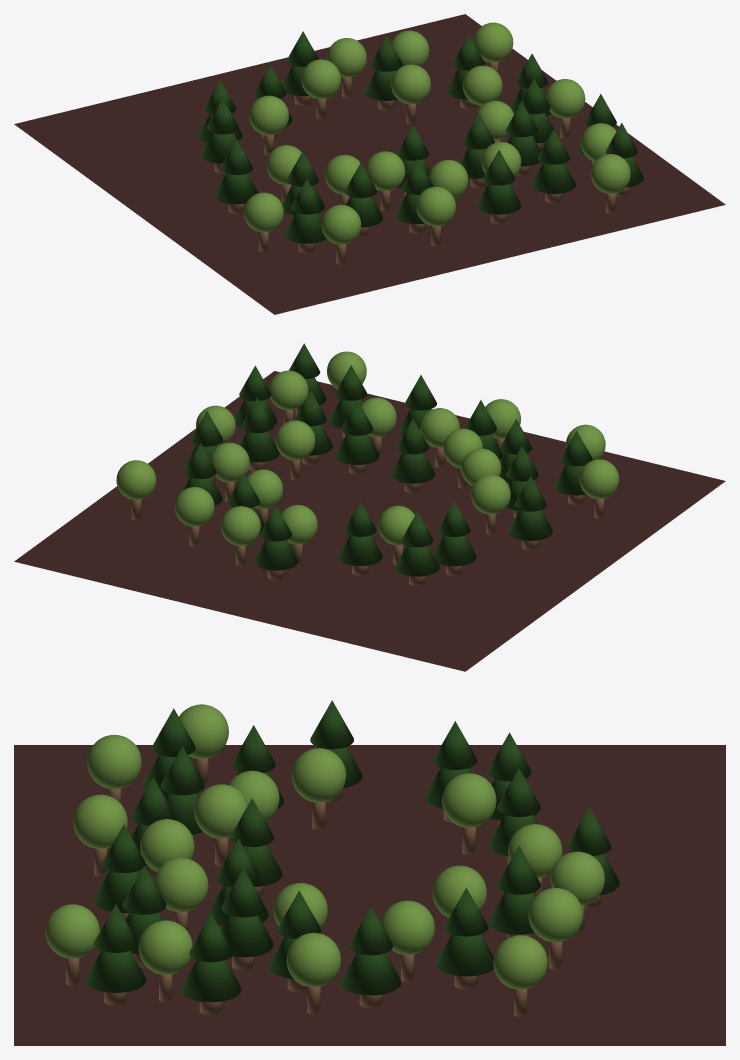
Rendered from outside.glb.
The picture shows the model from 3 angles, top to bottom: view 1: azimuth 30°, elevation 25°; view 2: azimuth 150°, elevation 25°; view 3: azimuth 270°, elevation 25°; orthographic projection. The views are drawn at different scales.
Parts seen in each view (by area): view 1: Plane, Cone.008, Cone.005, Cone.009, Cone.010, Cone.015, Cone.011, Sphere.009, Sphere.004, Cone.003, Sphere.003, Sphere.007 (+28 smaller); view 2: Plane, Cone.010, Cone.001, Cone.014, Cone.013, Cone.006, Cone.012, Cone.011, Cone.018, Cone.009, Sphere.005, Sphere.008 (+28 smaller); view 3: Plane, Cone.017, Cone.019, Cone.020, Cone.016, Cone.007, Cone.015, Sphere.002, Sphere.001, Sphere.015, Sphere.016, Sphere.013 (+28 smaller).
Part boxes in pixels (x1,y1,x2,y2): Plane: (14,14,725,314); Cone.008: (531,129,575,203); Cone.005: (477,150,521,224); Cone.009: (285,179,326,253); Cone.010: (215,139,258,213); Cone.015: (364,36,402,110); Cone.011: (201,99,244,173); Sphere.009: (321,204,361,264); Sphere.004: (391,64,430,124); Cone.003: (345,163,382,237); Sphere.003: (301,59,340,119); Sphere.007: (416,186,455,246); Plane: (14,371,725,671); Cone.010: (508,476,552,550); Cone.001: (391,419,435,493); Cone.014: (254,506,298,580); Cone.013: (338,501,382,575); Cone.006: (335,400,379,474); Cone.012: (395,512,439,586); Cone.011: (433,501,476,575); Cone.018: (239,397,279,471); Cone.009: (554,430,592,505); Sphere.005: (275,420,315,480); Sphere.008: (579,459,619,519); Plane: (14,745,725,1045); Cone.017: (340,906,401,1008); Cone.019: (181,913,241,1015); Cone.020: (85,904,146,1006); Cone.016: (436,888,493,989); Cone.007: (221,868,273,970); Cone.015: (489,846,540,937); Sphere.002: (442,773,496,855); Sphere.001: (291,748,346,829); Sphere.015: (493,935,547,1017); Sphere.016: (528,888,582,969); Sphere.013: (286,932,340,1014).
Bounding box in the file's own units: 64.73 × 9.8 × 64.73.
